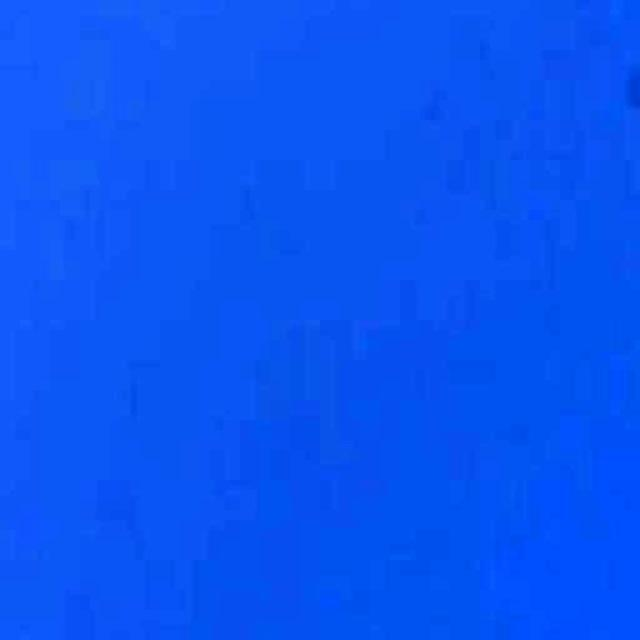drone: (572, 0, 640, 252)
